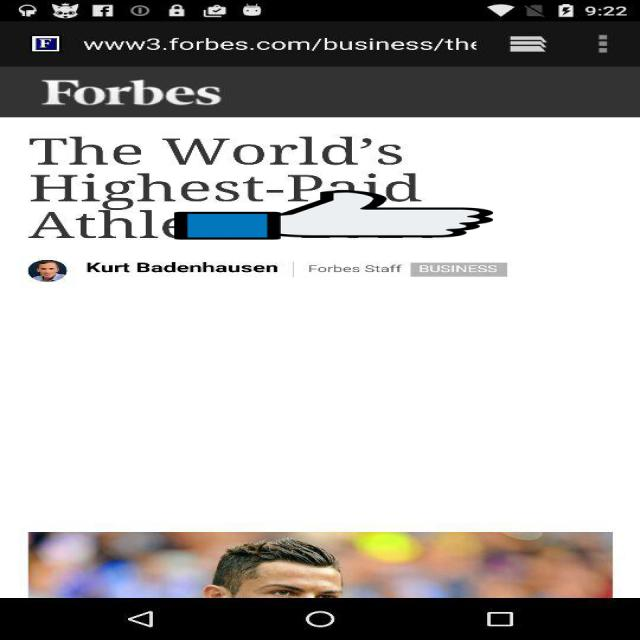privacy zuckering: (174, 189, 493, 241)
